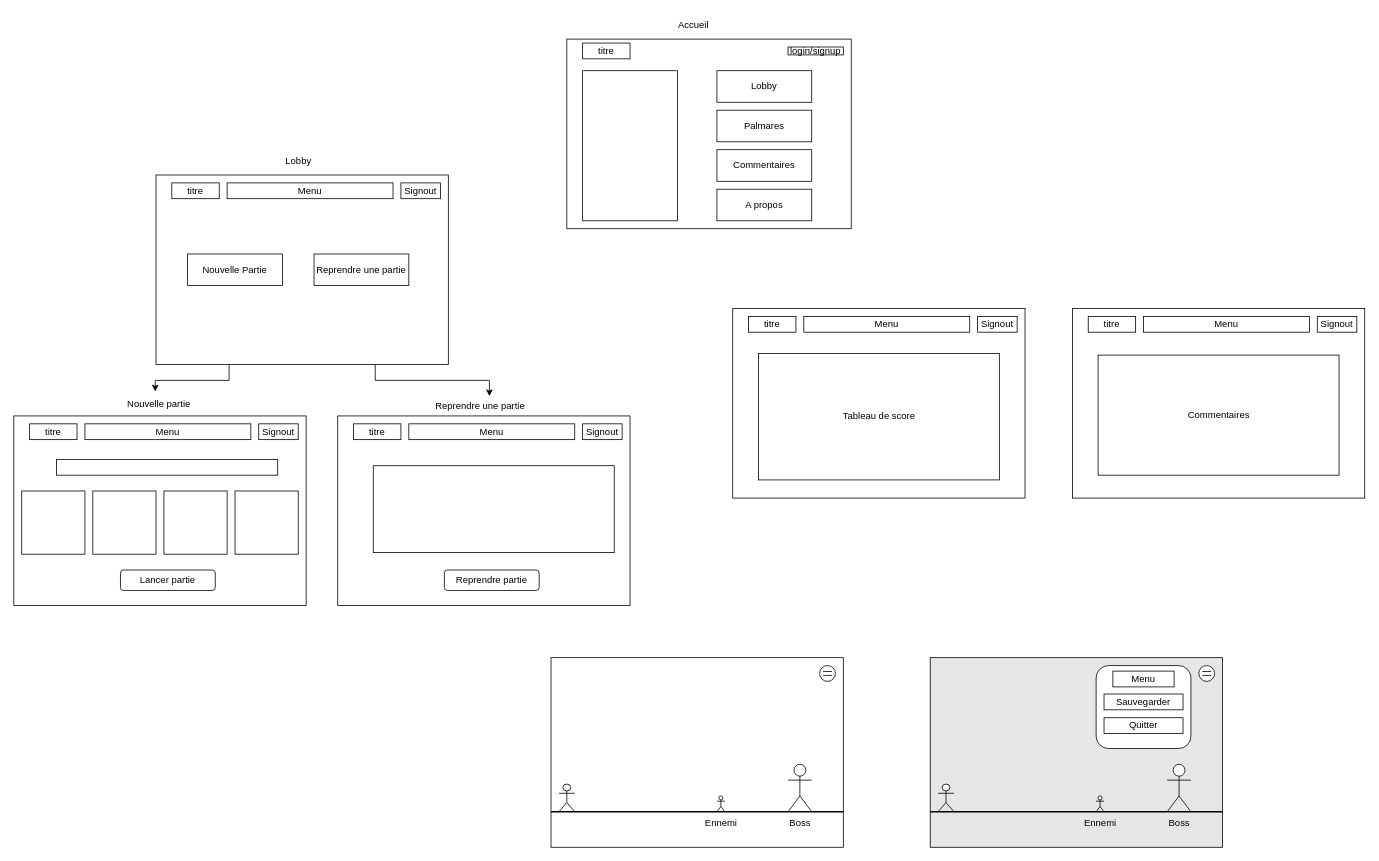
The diagram is 1379 pixels wide and 861 high, and some of its shapes have lost their labels. Each missing label, with the box of its shape:
Choisir un avatar: (56, 459, 278, 475)
Description: (582, 70, 677, 221)
Stats de progression: (372, 465, 614, 553)
